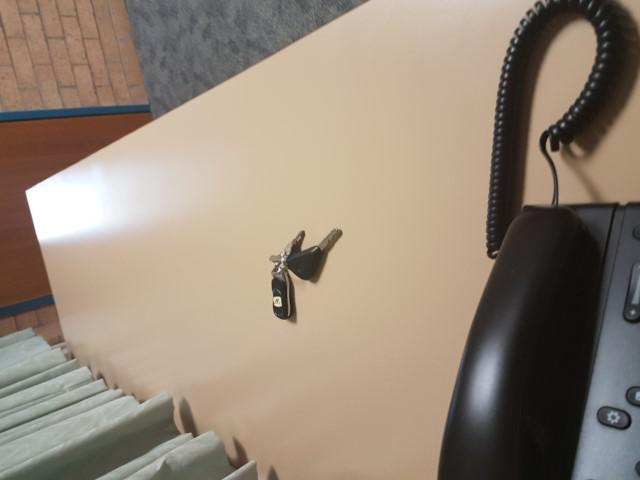key: (284, 229, 338, 283)
